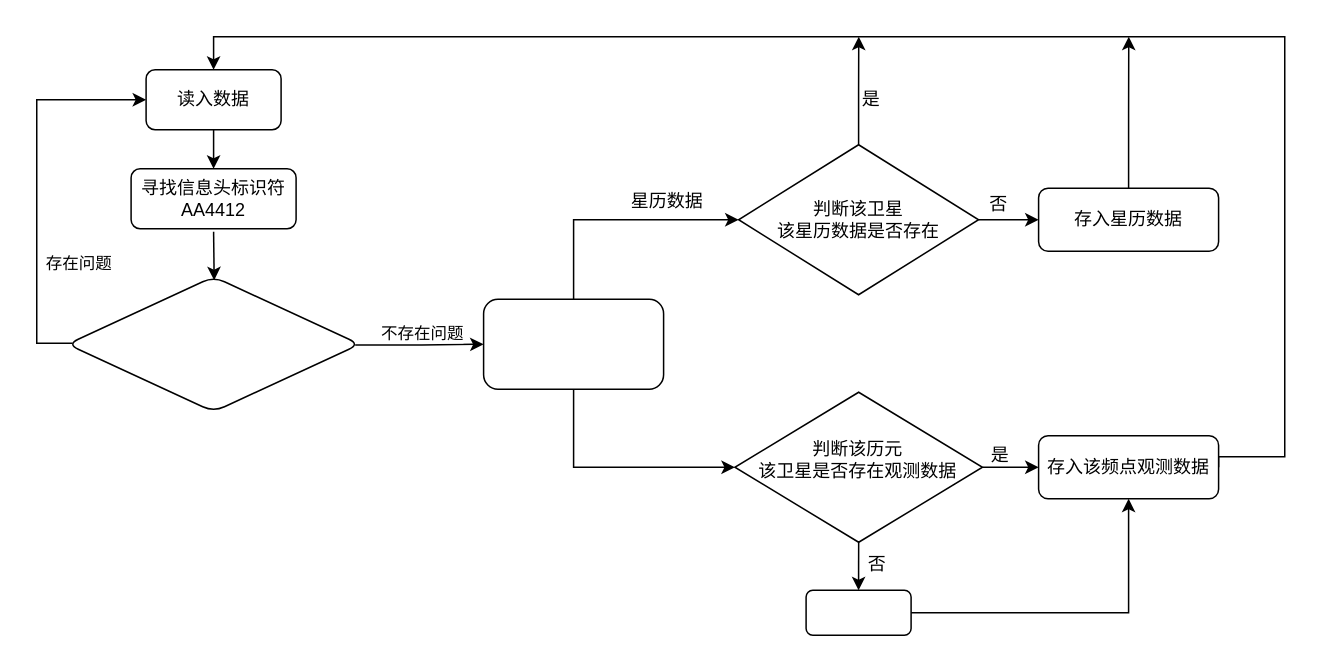
This 1323x662 diagram has some shape labels left out. The shapes that lost their labels are listed below. From the top down, each one's centre as x and y in pixels, then its label:
[213,343]: 读入信息头数据 检查CRC32校验码及其他信息
[573,343]: 解码信息类型
[858,612]: 创建卫星
